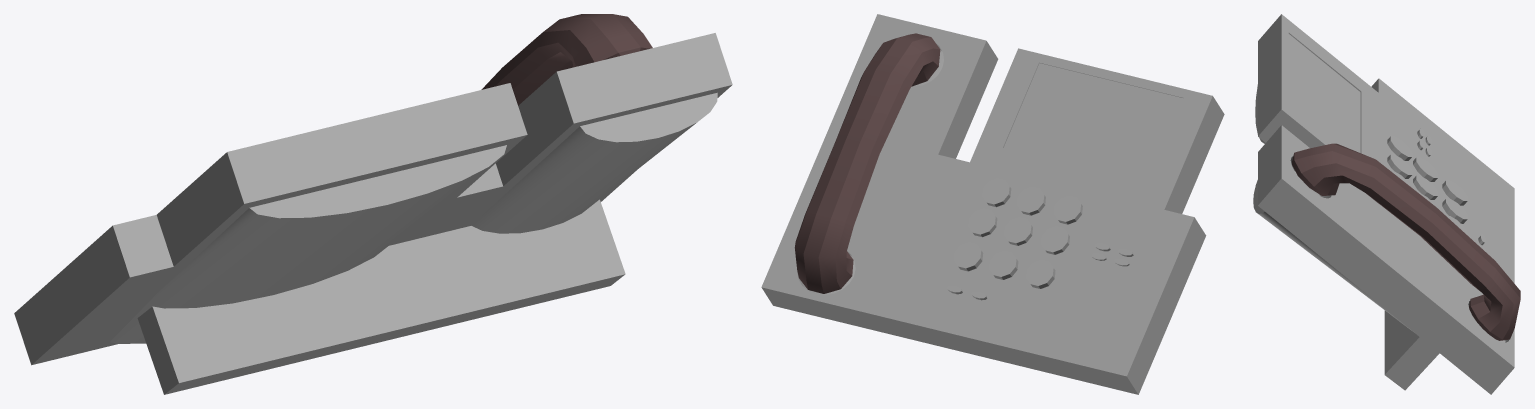
Rendered from phone.fbx.
The picture shows the model from 3 angles, left to right: view 1: azimuth 30°, elevation 25°; view 2: azimuth 150°, elevation 25°; view 3: azimuth 270°, elevation 25°; orthographic projection. The views are drawn at different scales.
Visible parts, largest first — view 1: pCylinder50, pCube23; view 2: pCylinder50, pCube23; view 3: pCylinder50, pCube23.
Part boxes in pixels (x1,y1,x2,y2): pCylinder50: [14, 33, 732, 394]; pCube23: [481, 14, 652, 105]; pCylinder50: [761, 14, 1224, 394]; pCube23: [794, 33, 940, 293]; pCylinder50: [1253, 14, 1514, 394]; pCube23: [1292, 143, 1520, 340].
Bounding box in the file's own units: 11.53 × 6.75 × 7.28.
